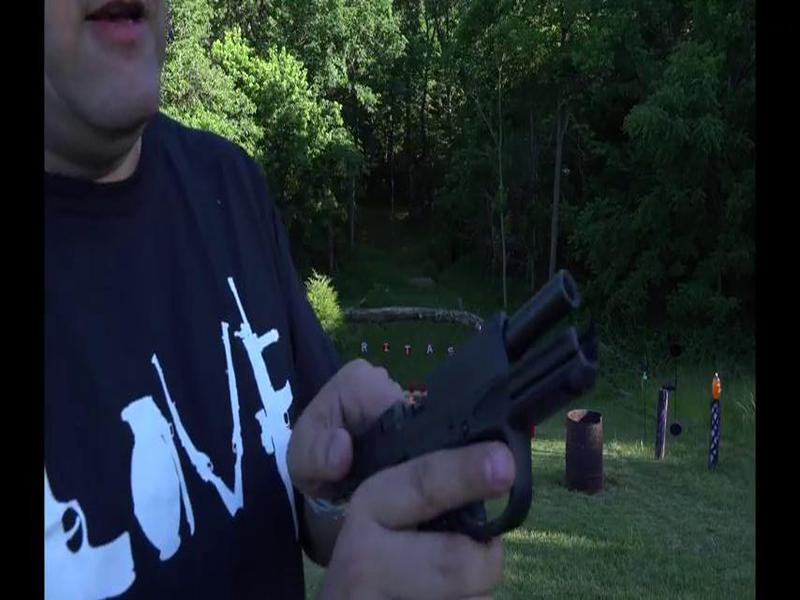Pistola: (317, 254, 617, 554)
